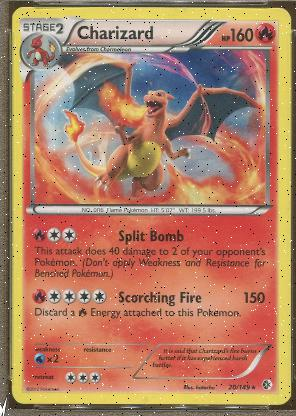Card: (11, 6, 291, 408)
